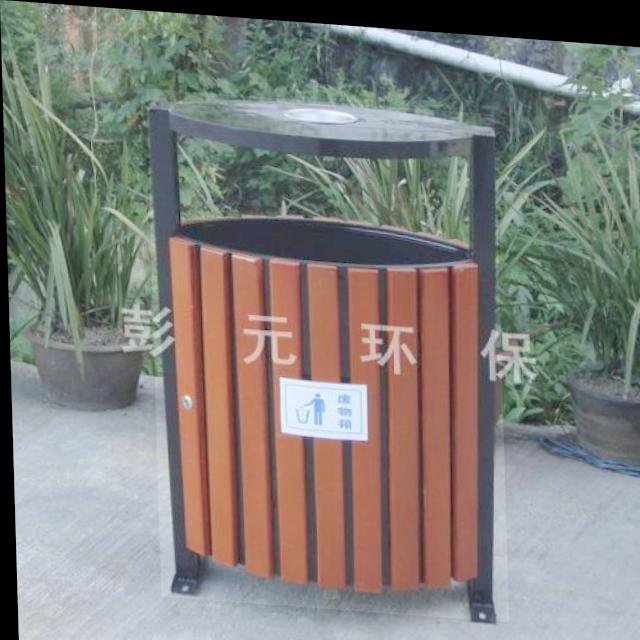garbage_bin: (146, 86, 506, 615)
